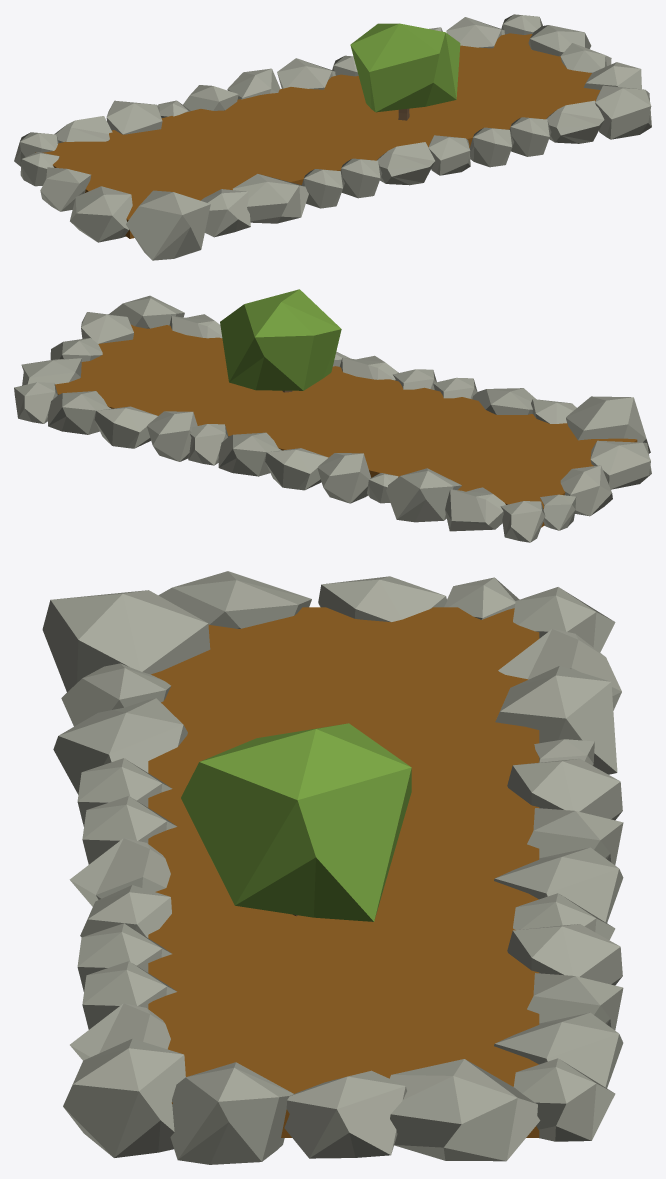
The model's file is tanaman rempah1.fbx.
3 renders of one model, top to bottom at view 1: azimuth 30°, elevation 25°; view 2: azimuth 150°, elevation 25°; view 3: azimuth 270°, elevation 25°, orthographic. The views are drawn at different scales.
Parts seen in each view (by area): view 1: ladang kiri, ladang tengah.002, ladang kanan, tanaman rempah; view 2: ladang kiri, ladang kanan, ladang tengah.002, tanaman rempah; view 3: ladang kanan, ladang kiri, ladang tengah.002, tanaman rempah.
Part boxes in pixels (<box>): ladang kiri: <box>14,100,308,260</box>; ladang tengah.002: <box>183,55,470,208</box>; ladang kanan: <box>425,14,651,167</box>; tanaman rempah: <box>350,23,460,120</box>; ladang kiri: <box>367,388,651,542</box>; ladang kanan: <box>14,295,251,461</box>; ladang tengah.002: <box>188,351,477,503</box>; tanaman rempah: <box>220,289,341,392</box>; ladang kanan: <box>63,923,623,1164</box>; ladang kiri: <box>42,571,621,794</box>; ladang tengah.002: <box>69,758,623,940</box>; tanaman rempah: <box>181,723,411,921</box>.
Size of the model in its own units: 337 by 68.04 by 149.
